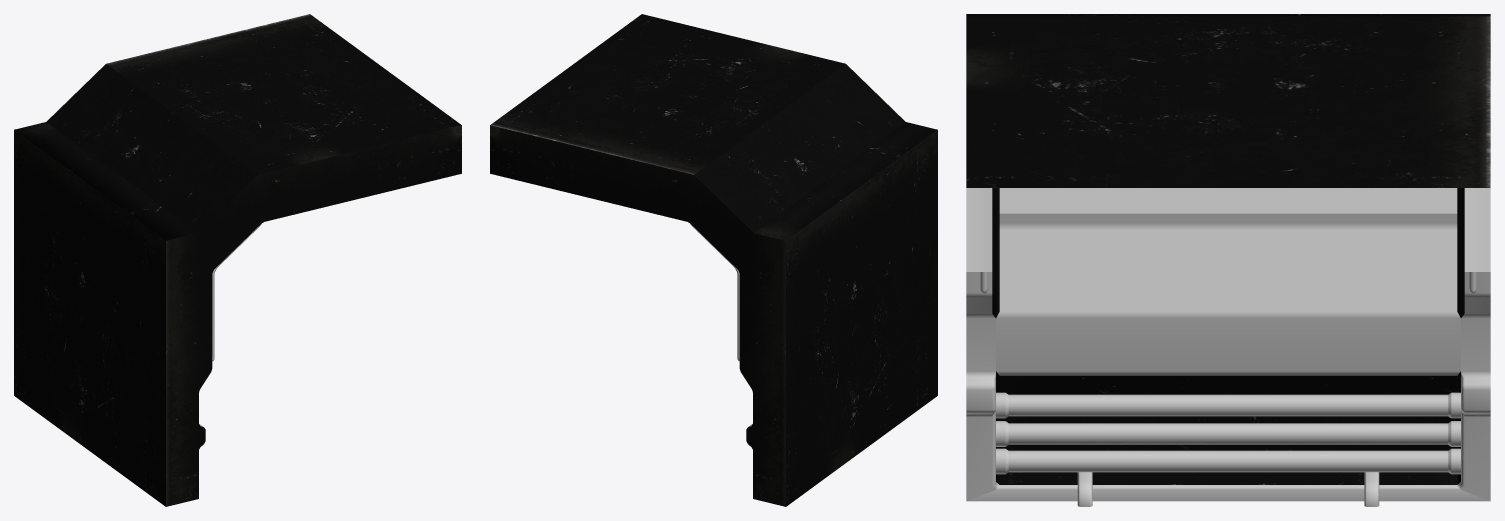
File: SM_Wall_C.FBX
3 renders of one model, left to right at view 1: azimuth 30°, elevation 25°; view 2: azimuth 150°, elevation 25°; view 3: azimuth 270°, elevation 25°, orthographic. The views are drawn at different scales.
Parts seen in each view (by area): view 1: SM_Wall_C; view 2: SM_Wall_C; view 3: SM_Wall_C.
Boxes of the visible parts, left/top/right/bottom form: SM_Wall_C: left=14, top=14, right=461, bottom=506; SM_Wall_C: left=490, top=14, right=937, bottom=506; SM_Wall_C: left=966, top=14, right=1490, bottom=506.
Size of the model in its own units: 450 by 450 by 400.
